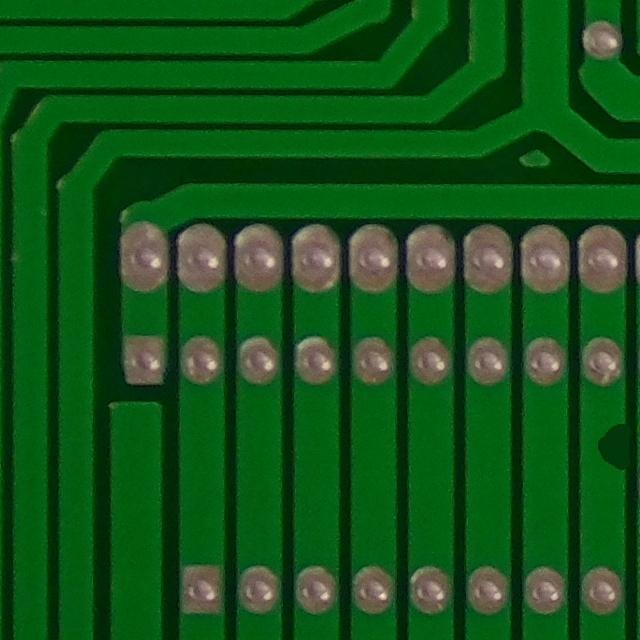mouse_bite: (586, 415, 640, 481)
